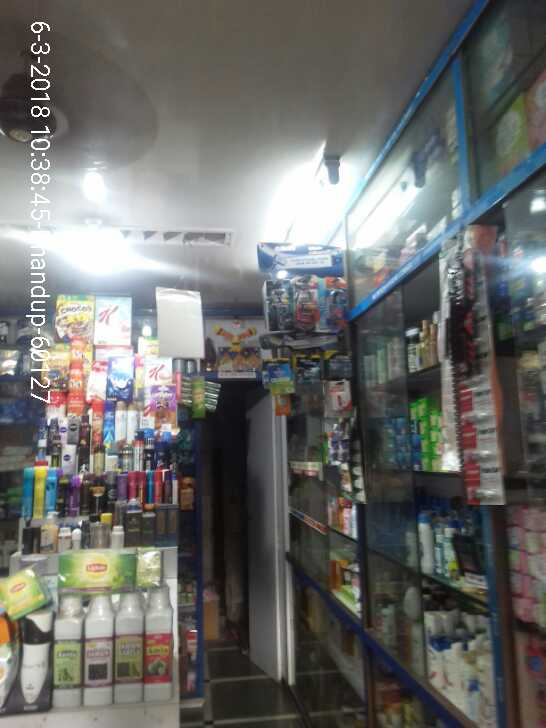beauty: (266, 281, 296, 336), (322, 276, 351, 329), (294, 276, 322, 327), (324, 348, 352, 377), (296, 352, 324, 380), (260, 360, 289, 381)
